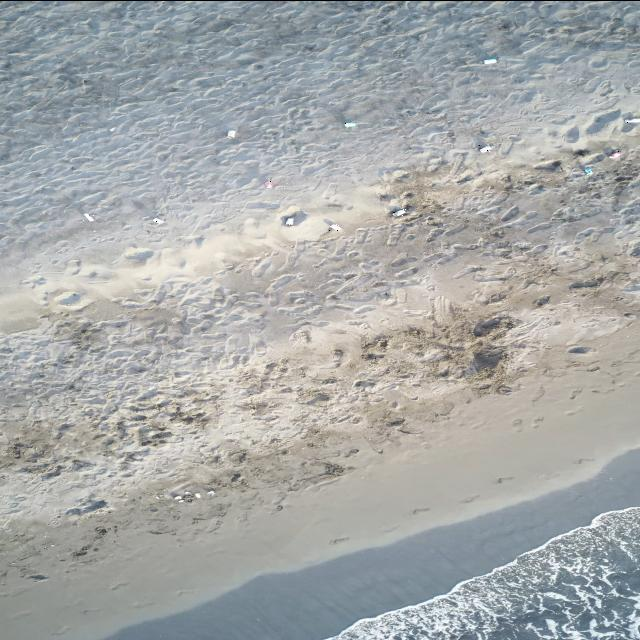Garbage: (65, 500, 107, 515), (123, 247, 152, 263), (280, 209, 307, 226), (533, 295, 550, 306), (567, 344, 590, 352), (607, 148, 620, 158), (392, 207, 406, 216), (479, 144, 492, 151), (227, 128, 236, 138), (83, 212, 94, 220), (484, 57, 496, 64), (328, 223, 340, 230), (344, 120, 356, 127), (624, 118, 639, 123), (284, 216, 293, 224), (263, 179, 272, 187), (584, 166, 592, 173), (152, 218, 163, 223), (173, 495, 181, 499), (207, 489, 212, 495), (184, 491, 191, 495), (195, 492, 200, 497), (155, 495, 159, 499)
